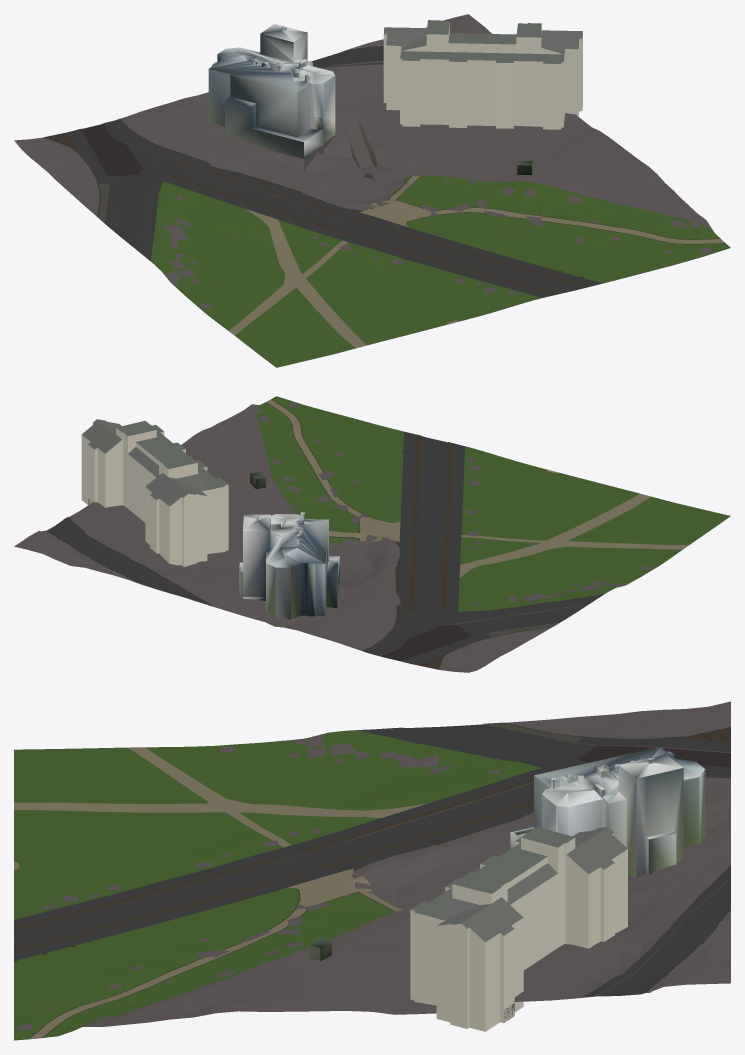
3 renders of one model, top to bottom at view 1: azimuth 30°, elevation 25°; view 2: azimuth 150°, elevation 25°; view 3: azimuth 270°, elevation 25°, orthographic. The views are drawn at different scales.
Visible parts, largest first — view 1: c_p01_p09; view 2: c_p01_p09; view 3: c_p01_p09.
Part boxes in pixels (box(x1,y1,x2,y2)): c_p01_p09: box(14, 14, 730, 367); c_p01_p09: box(14, 396, 730, 672); c_p01_p09: box(14, 701, 730, 1040).
Bounding box in the file's own units: 134 × 29.97 × 128.
